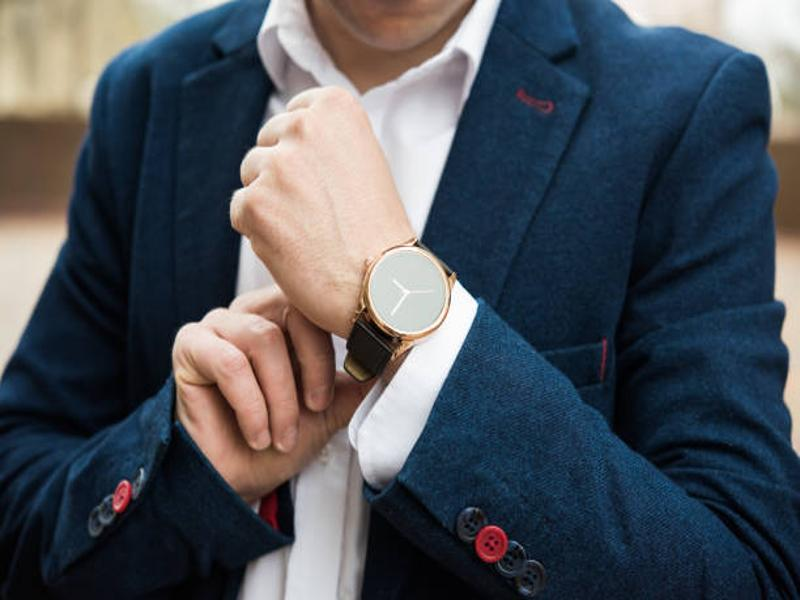watch: (342, 234, 458, 382)
